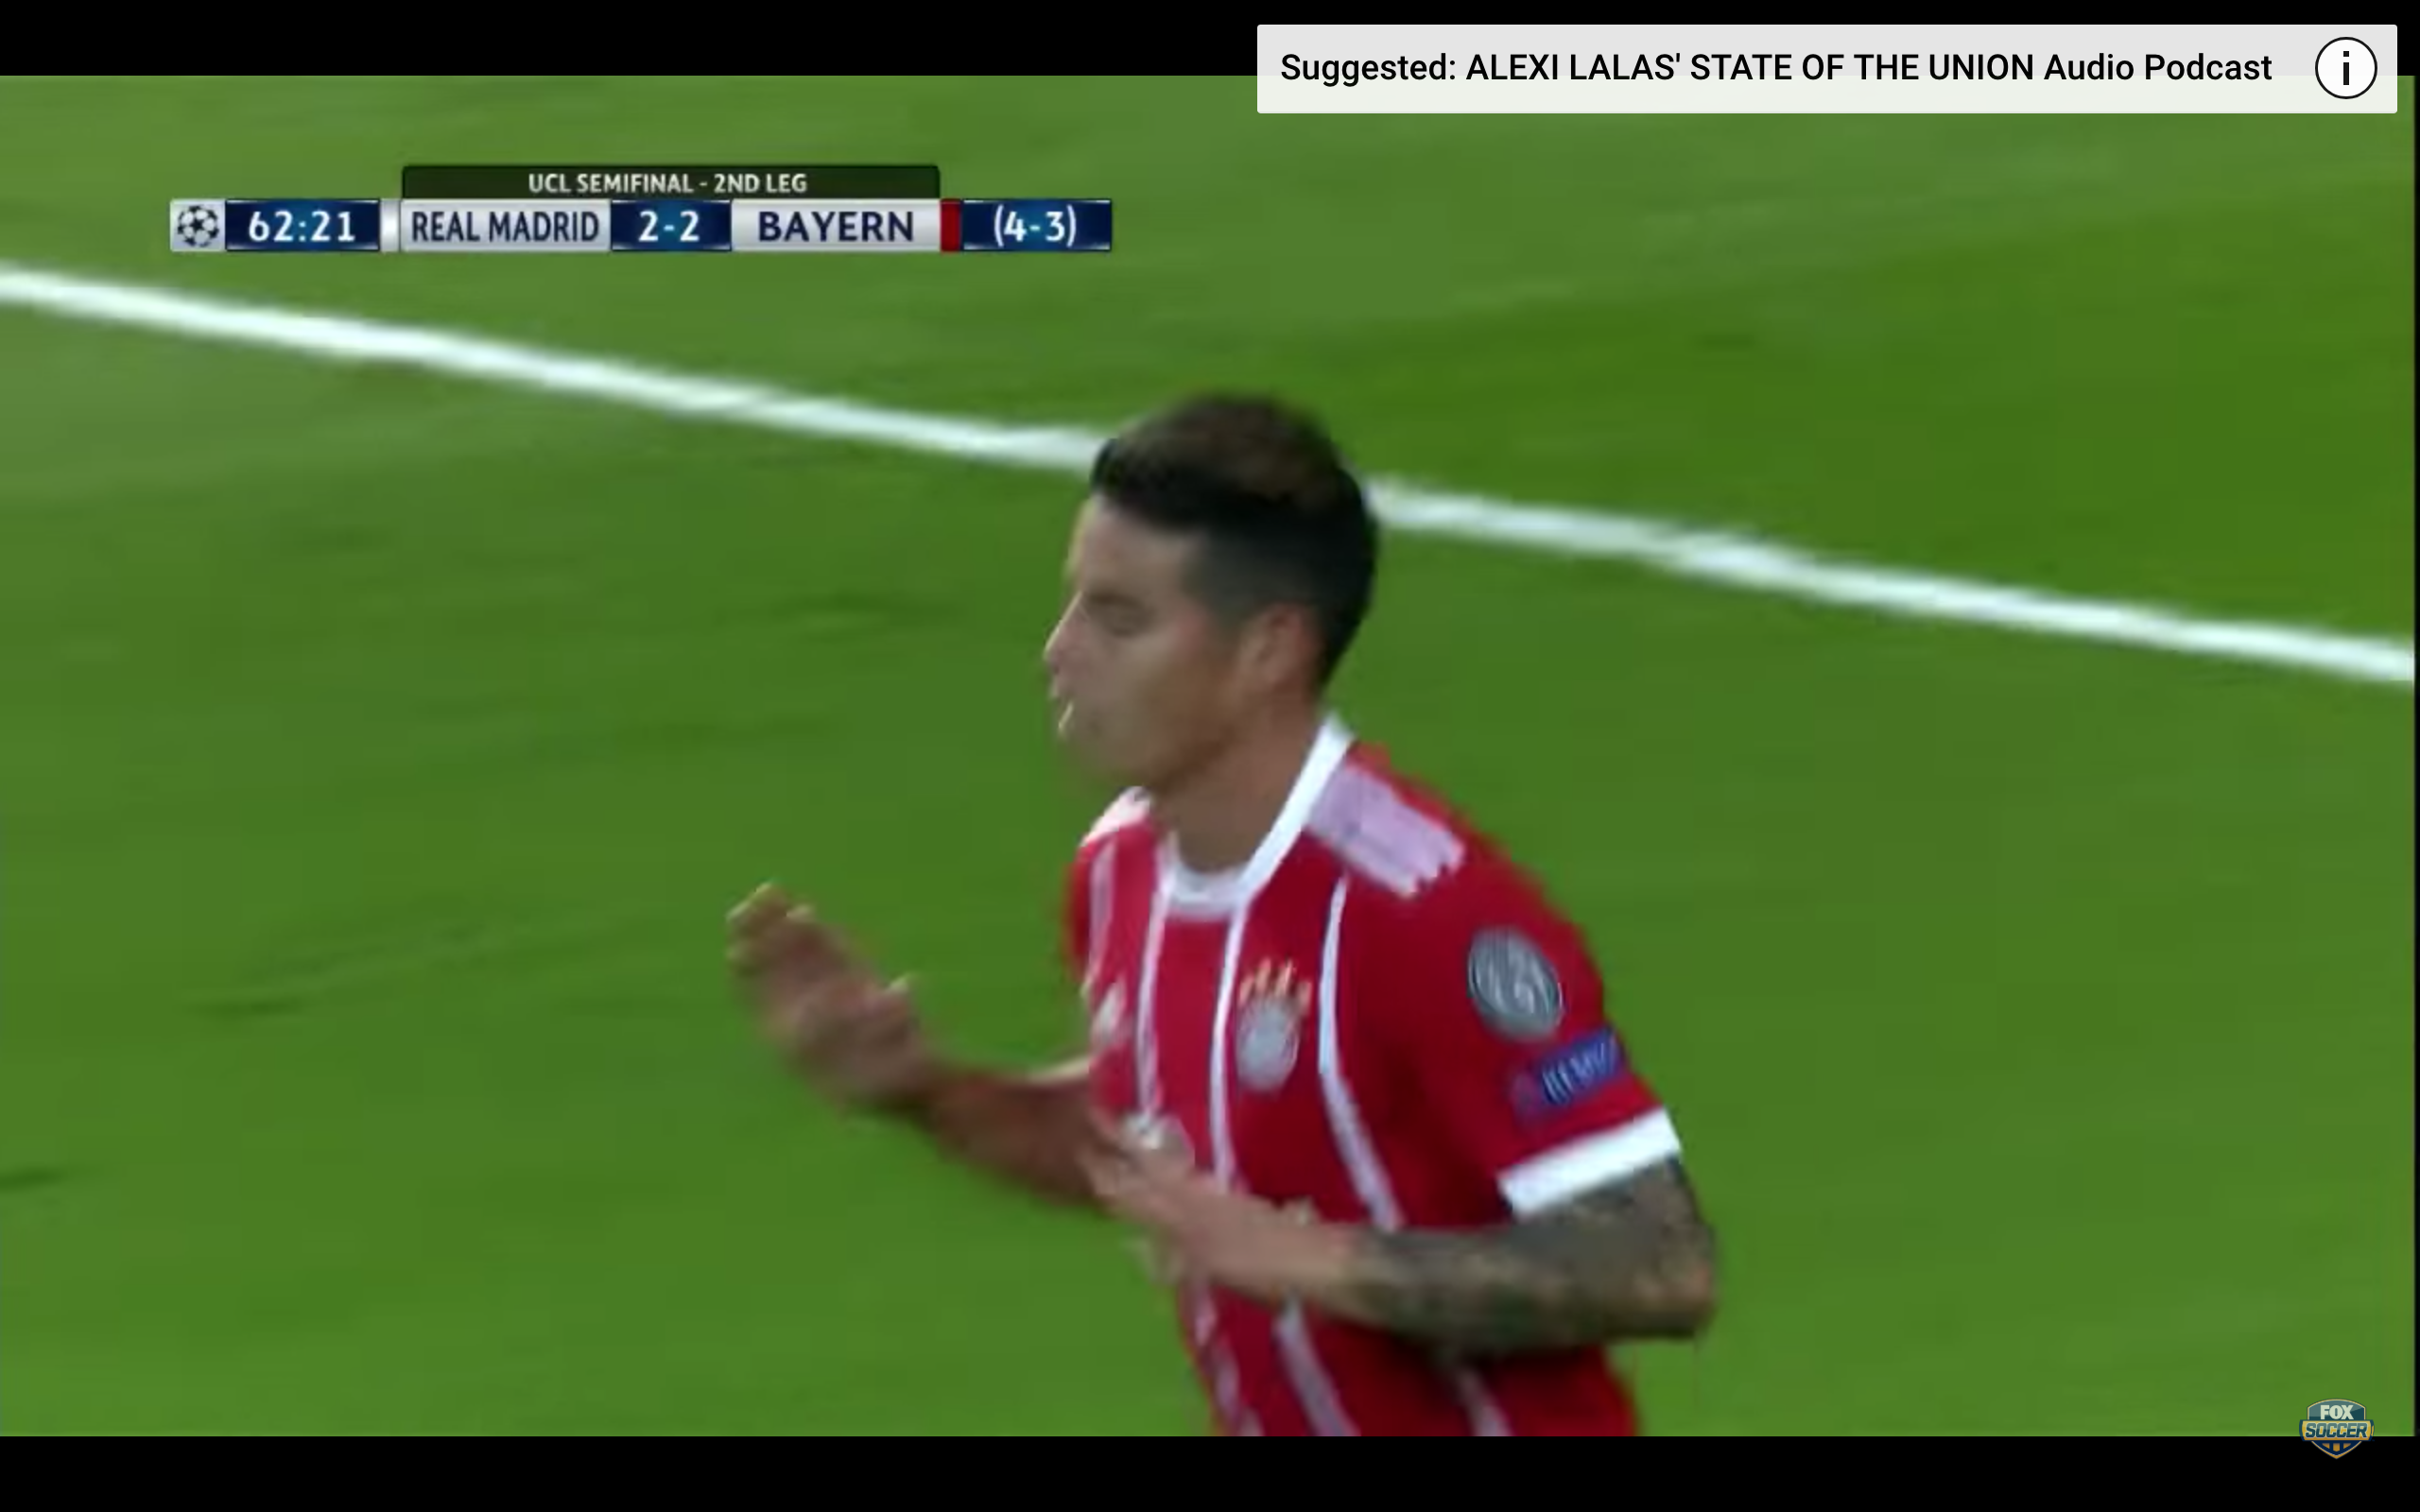soccer player: (700, 387, 1757, 1424)
